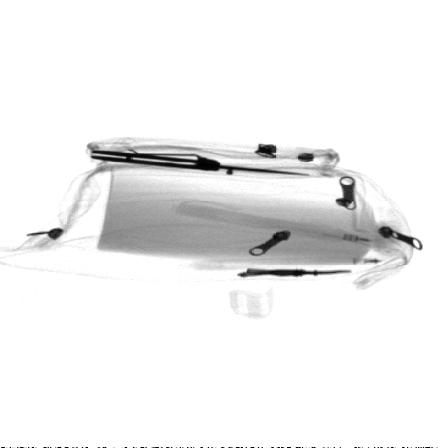Knife: (89, 150, 312, 177)
Scissors: (236, 267, 354, 278)
